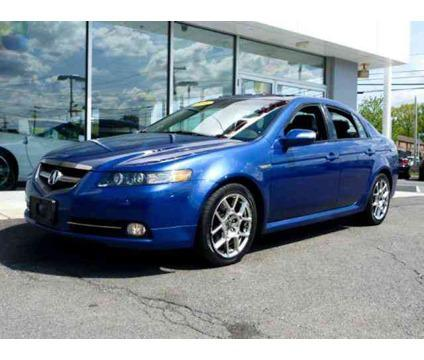Car: (25, 84, 410, 279)
